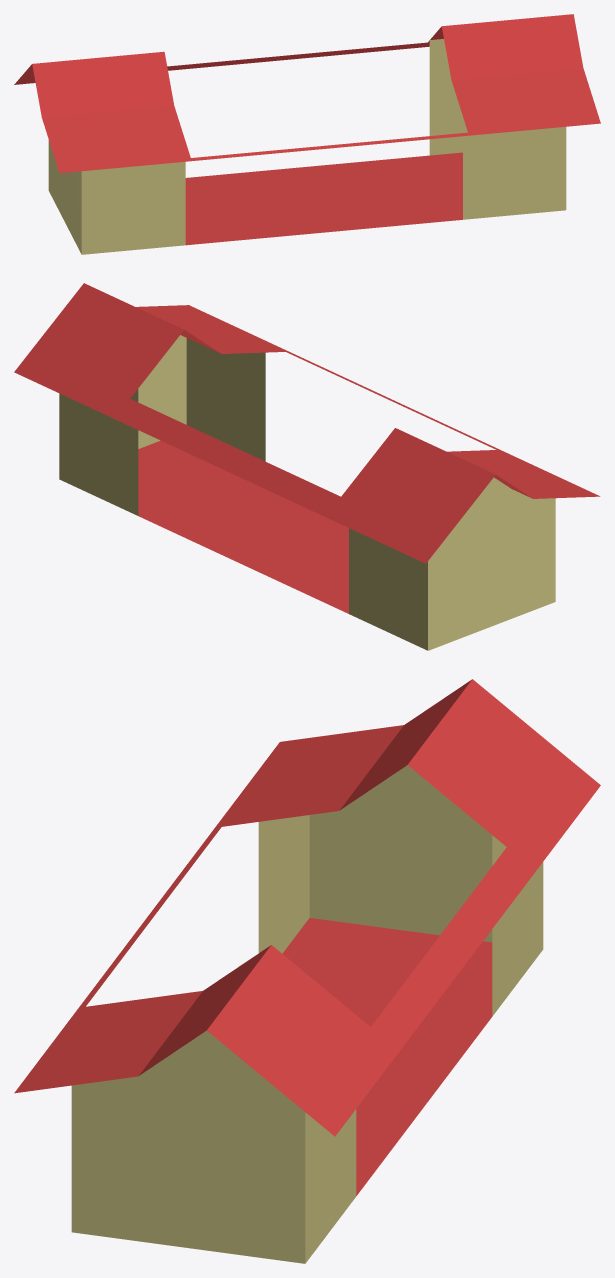
3 renders of one model, top to bottom at view 1: azimuth 30°, elevation 25°; view 2: azimuth 150°, elevation 25°; view 3: azimuth 270°, elevation 25°, orthographic. The views are drawn at different scales.
Size of the model in its own units: 30.56 by 19.2 by 8.68.
